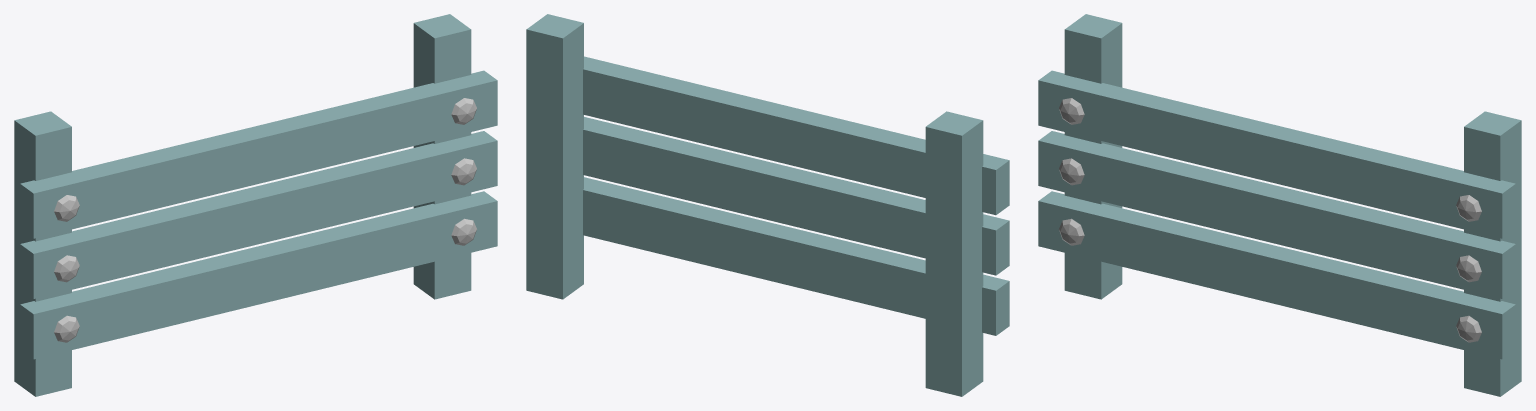
File: 3_plank_4.FBX
3 renders of one model, left to right at view 1: azimuth 30°, elevation 25°; view 2: azimuth 150°, elevation 25°; view 3: azimuth 330°, elevation 25°, orthographic.
Visible parts, largest first — view 1: 3_plank_4; view 2: 3_plank_4; view 3: 3_plank_4.
Boxes of the visible parts, bbox=[...] form: 3_plank_4: bbox=[14, 14, 497, 396]; 3_plank_4: bbox=[526, 14, 1009, 396]; 3_plank_4: bbox=[1038, 14, 1521, 396].
Bounding box in the file's own units: 1.35 × 0.7267 × 0.1854.
1 material, 1 textured.
